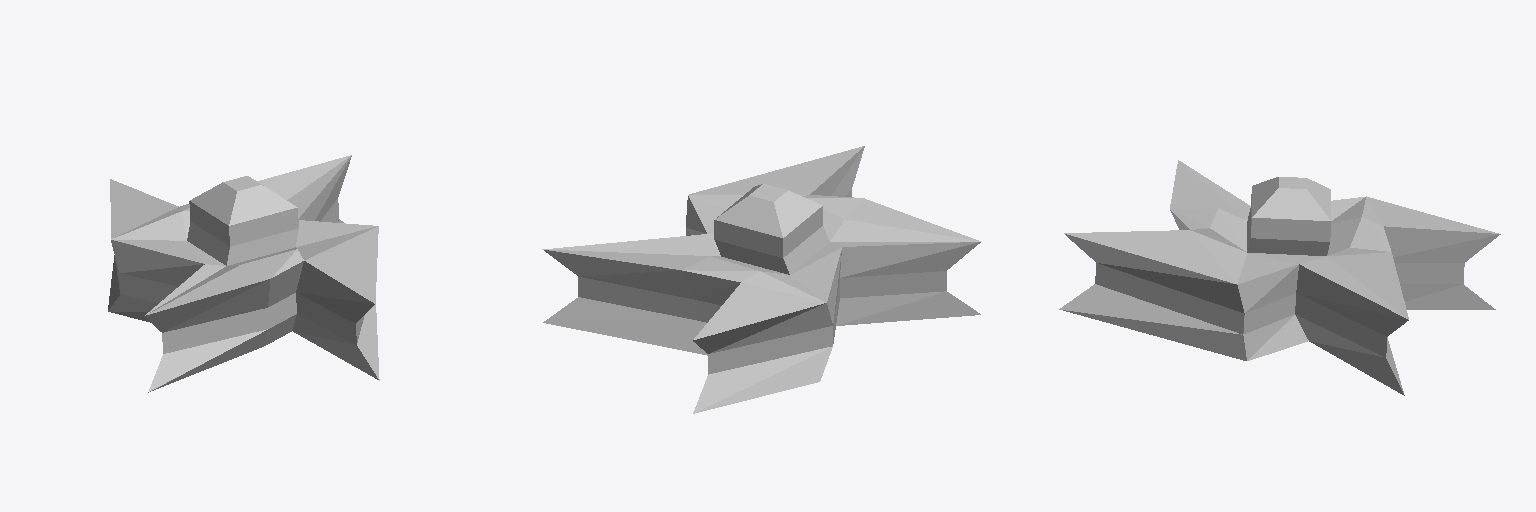
The model's file is LaserEmitter.obj.
3 renders of one model, left to right at view 1: azimuth 30°, elevation 25°; view 2: azimuth 150°, elevation 25°; view 3: azimuth 270°, elevation 25°, orthographic.
Parts seen in each view (by area): view 1: pCube1; view 2: pCube1; view 3: pCube1.
Part boxes in pixels (x1,y1,x2,y2): pCube1: (108,155,379,392); pCube1: (542,146,980,413); pCube1: (1059,160,1500,395).
Size of the model in its own units: 5.15 by 2.13 by 6.06.